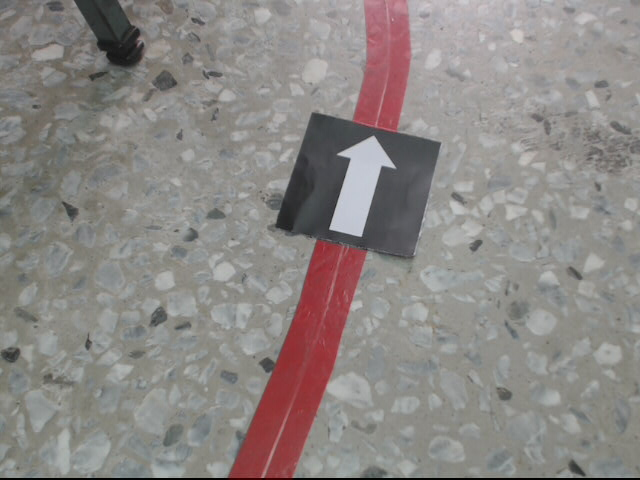straight: (275, 112, 442, 258)
